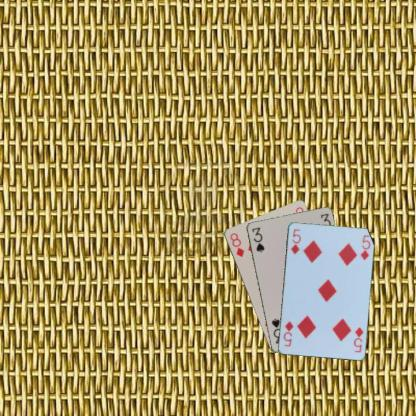3s: (249, 224, 265, 254)
5d: (288, 226, 302, 256), (351, 324, 364, 353)
8d: (227, 230, 246, 258)
